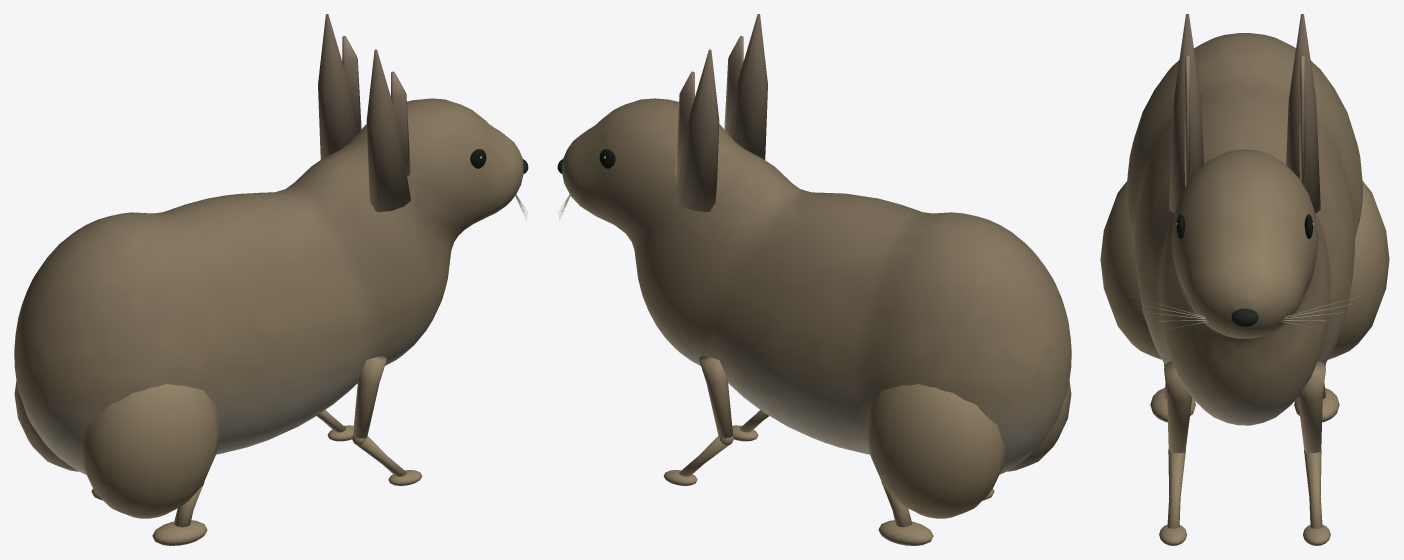
Rendered from wildlife-hare.glb.
The picture shows the model from 3 angles, left to right: view 1: azimuth 30°, elevation 25°; view 2: azimuth 150°, elevation 25°; view 3: azimuth 270°, elevation 25°; orthographic projection. The views are drawn at different scales.
Visible parts, largest first — view 1: hare; view 2: hare; view 3: hare.
Boxes of the visible parts, bbox=[...] form: hare: bbox=[14, 14, 528, 545]; hare: bbox=[557, 14, 1071, 545]; hare: bbox=[1100, 14, 1389, 545].
Bounding box in the file's own units: 0.65 × 0.5437 × 0.2753.
